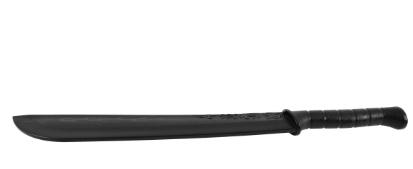MACHETTE: (7, 107, 413, 169)
